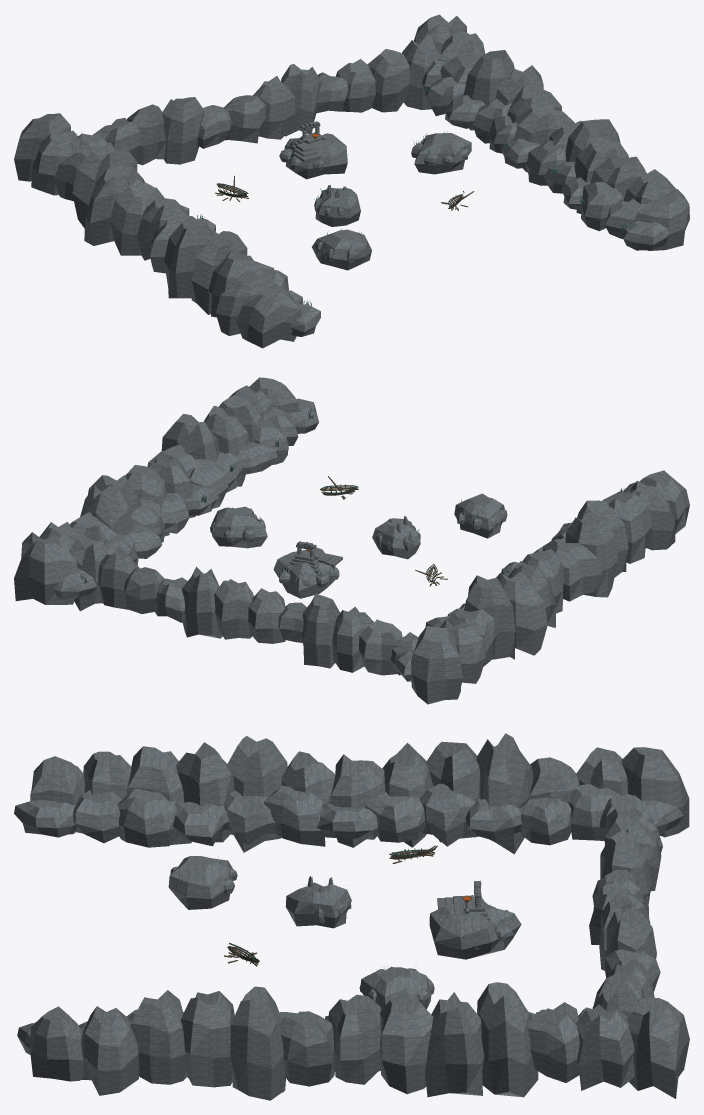
File: pond.glb
3 renders of one model, top to bottom at view 1: azimuth 30°, elevation 25°; view 2: azimuth 150°, elevation 25°; view 3: azimuth 270°, elevation 25°, orthographic. The views are drawn at different scales.
Visible parts, largest first — view 1: Coastal limestone mesh, Painted oak mesh, Aged oak mesh; view 2: Coastal limestone mesh, Painted oak mesh, Aged oak mesh; view 3: Coastal limestone mesh, Aged oak mesh.
Boxes of the visible parts, bbox=[...] form: Coastal limestone mesh: bbox=[14, 14, 689, 348]; Painted oak mesh: bbox=[76, 85, 633, 306]; Aged oak mesh: bbox=[215, 175, 474, 210]; Coastal limestone mesh: bbox=[14, 377, 689, 704]; Painted oak mesh: bbox=[80, 409, 632, 658]; Aged oak mesh: bbox=[320, 476, 447, 586]; Coastal limestone mesh: bbox=[14, 733, 689, 1100]; Aged oak mesh: bbox=[224, 845, 437, 966].
Size of the model in its own units: 59.53 by 9.87 by 57.83.
5 materials, 5 textured.
